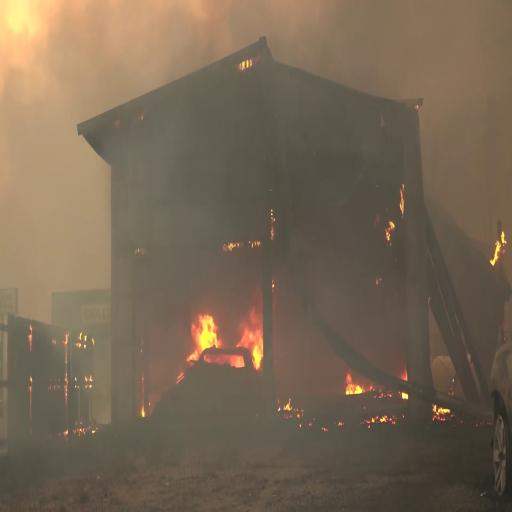fire: (204, 296, 266, 360)
